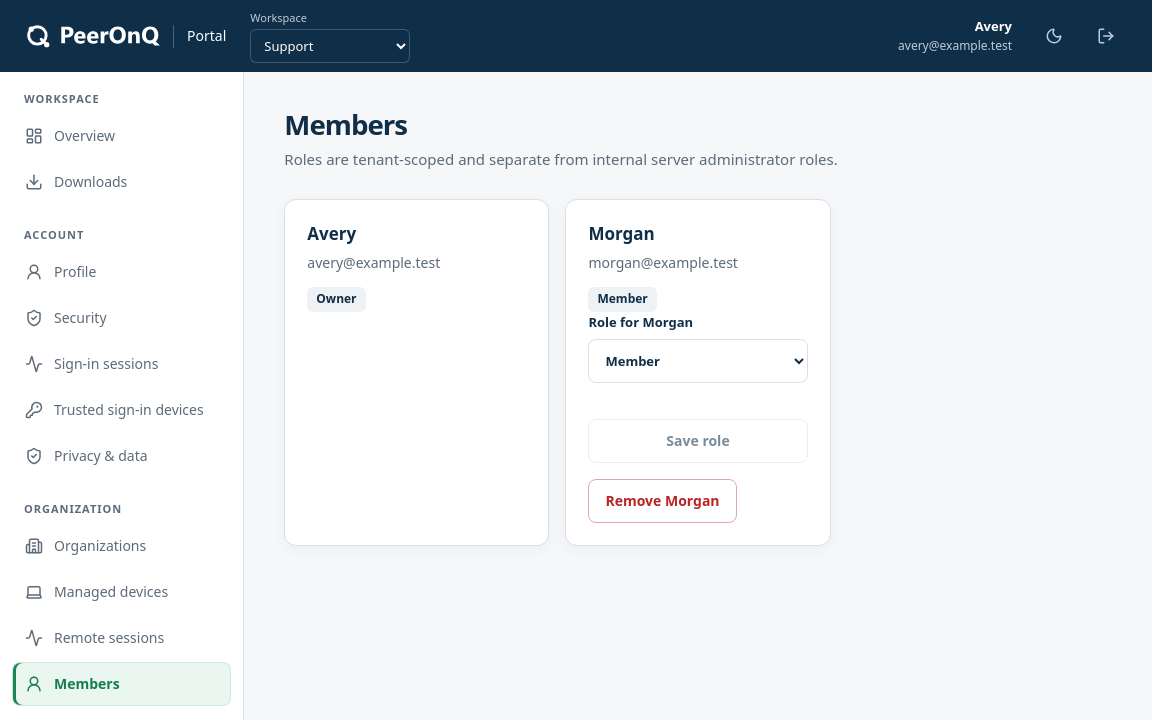
Test: organization lifecycle › requires confirmation before member removal and shows a server rejection
This screenshot has width=1152, height=720.
Click the button "Remove Morgan" at (662, 501), box [588,479,736,523]
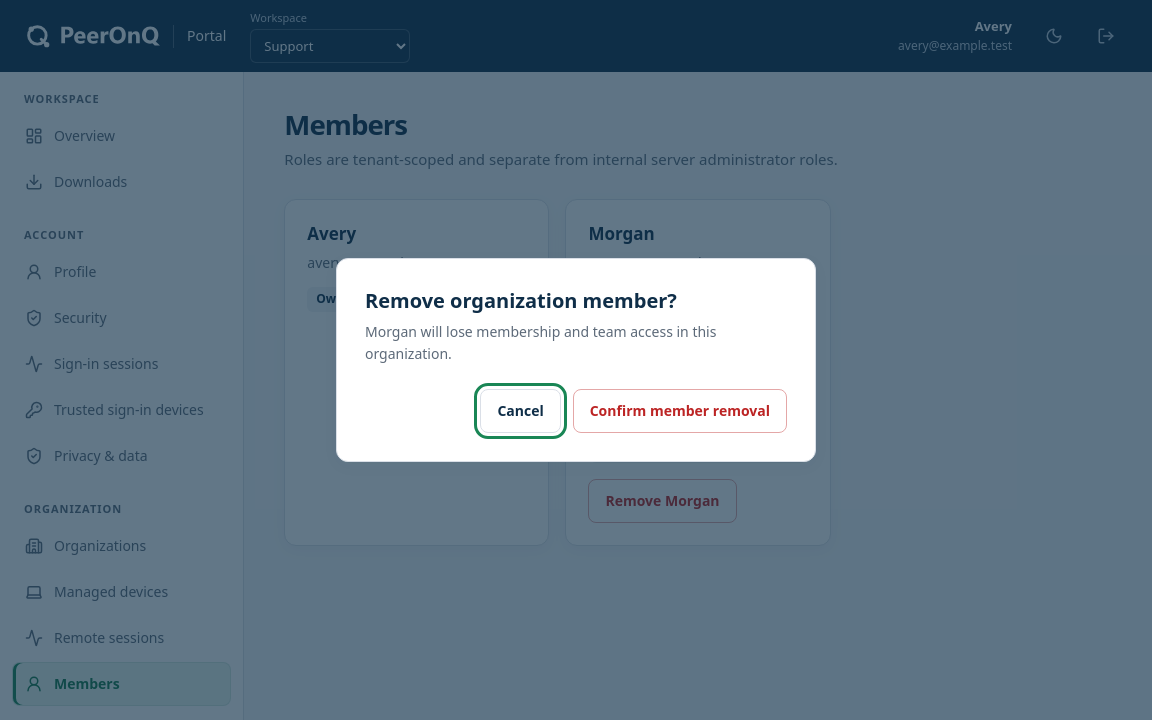
Click the button "Confirm member removal" at (680, 411), box [573,389,787,433]
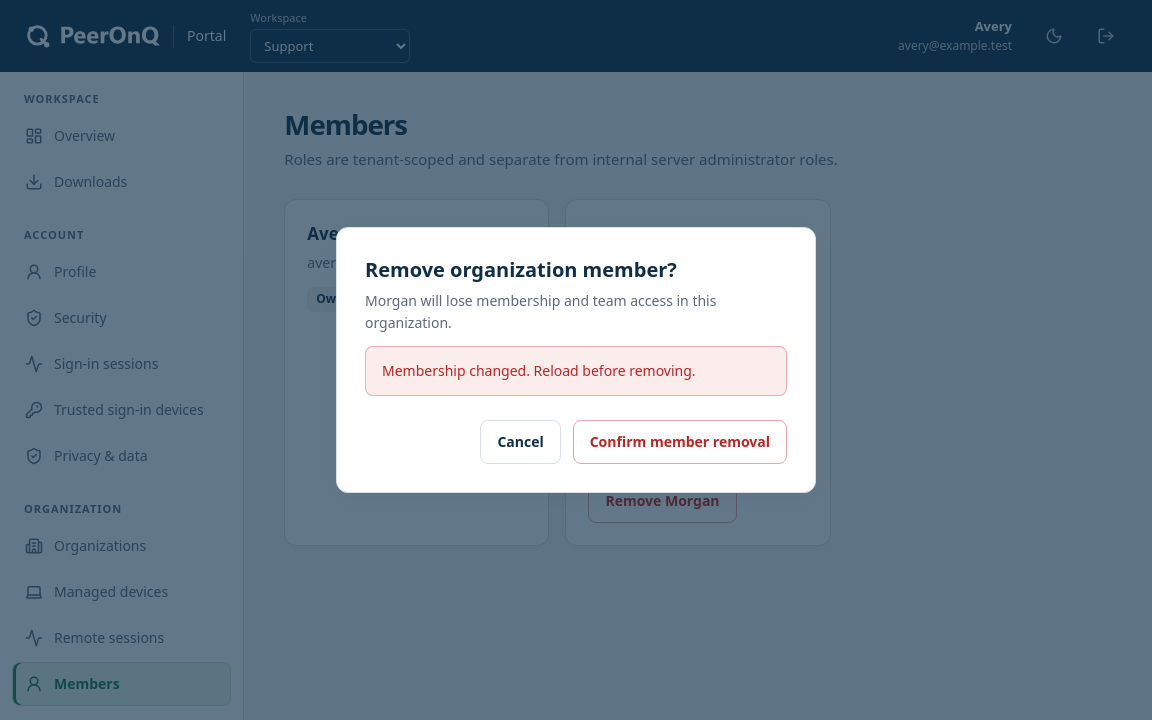
Expected: the dialog is shown, [336,228,816,493]
Expected: the message reads "Membership changed. Reload before removing.", [382,361,696,380]
